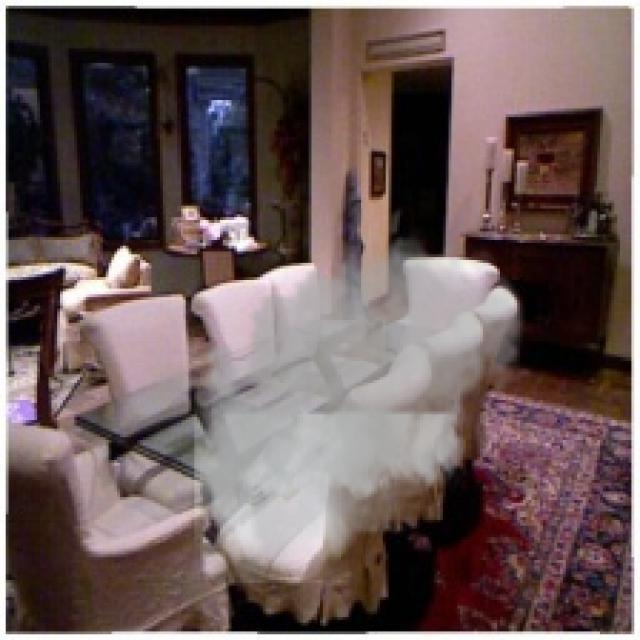Smoke: (179, 223, 532, 583)
